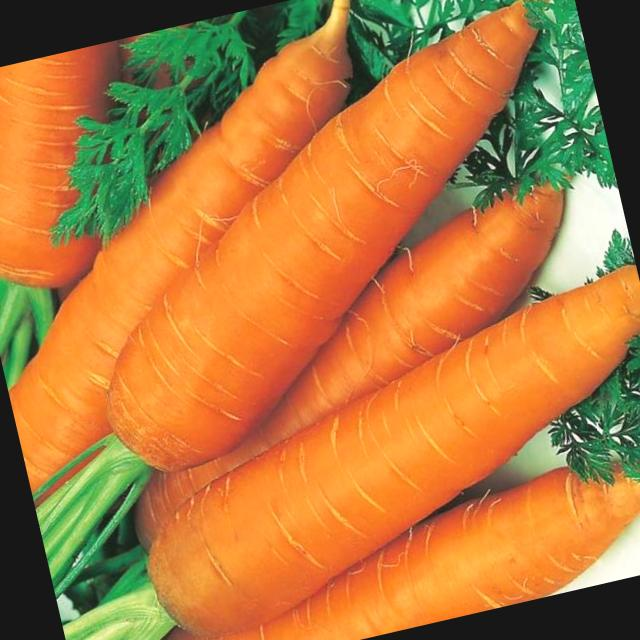carrot: (105, 0, 541, 473), (159, 265, 640, 635)
